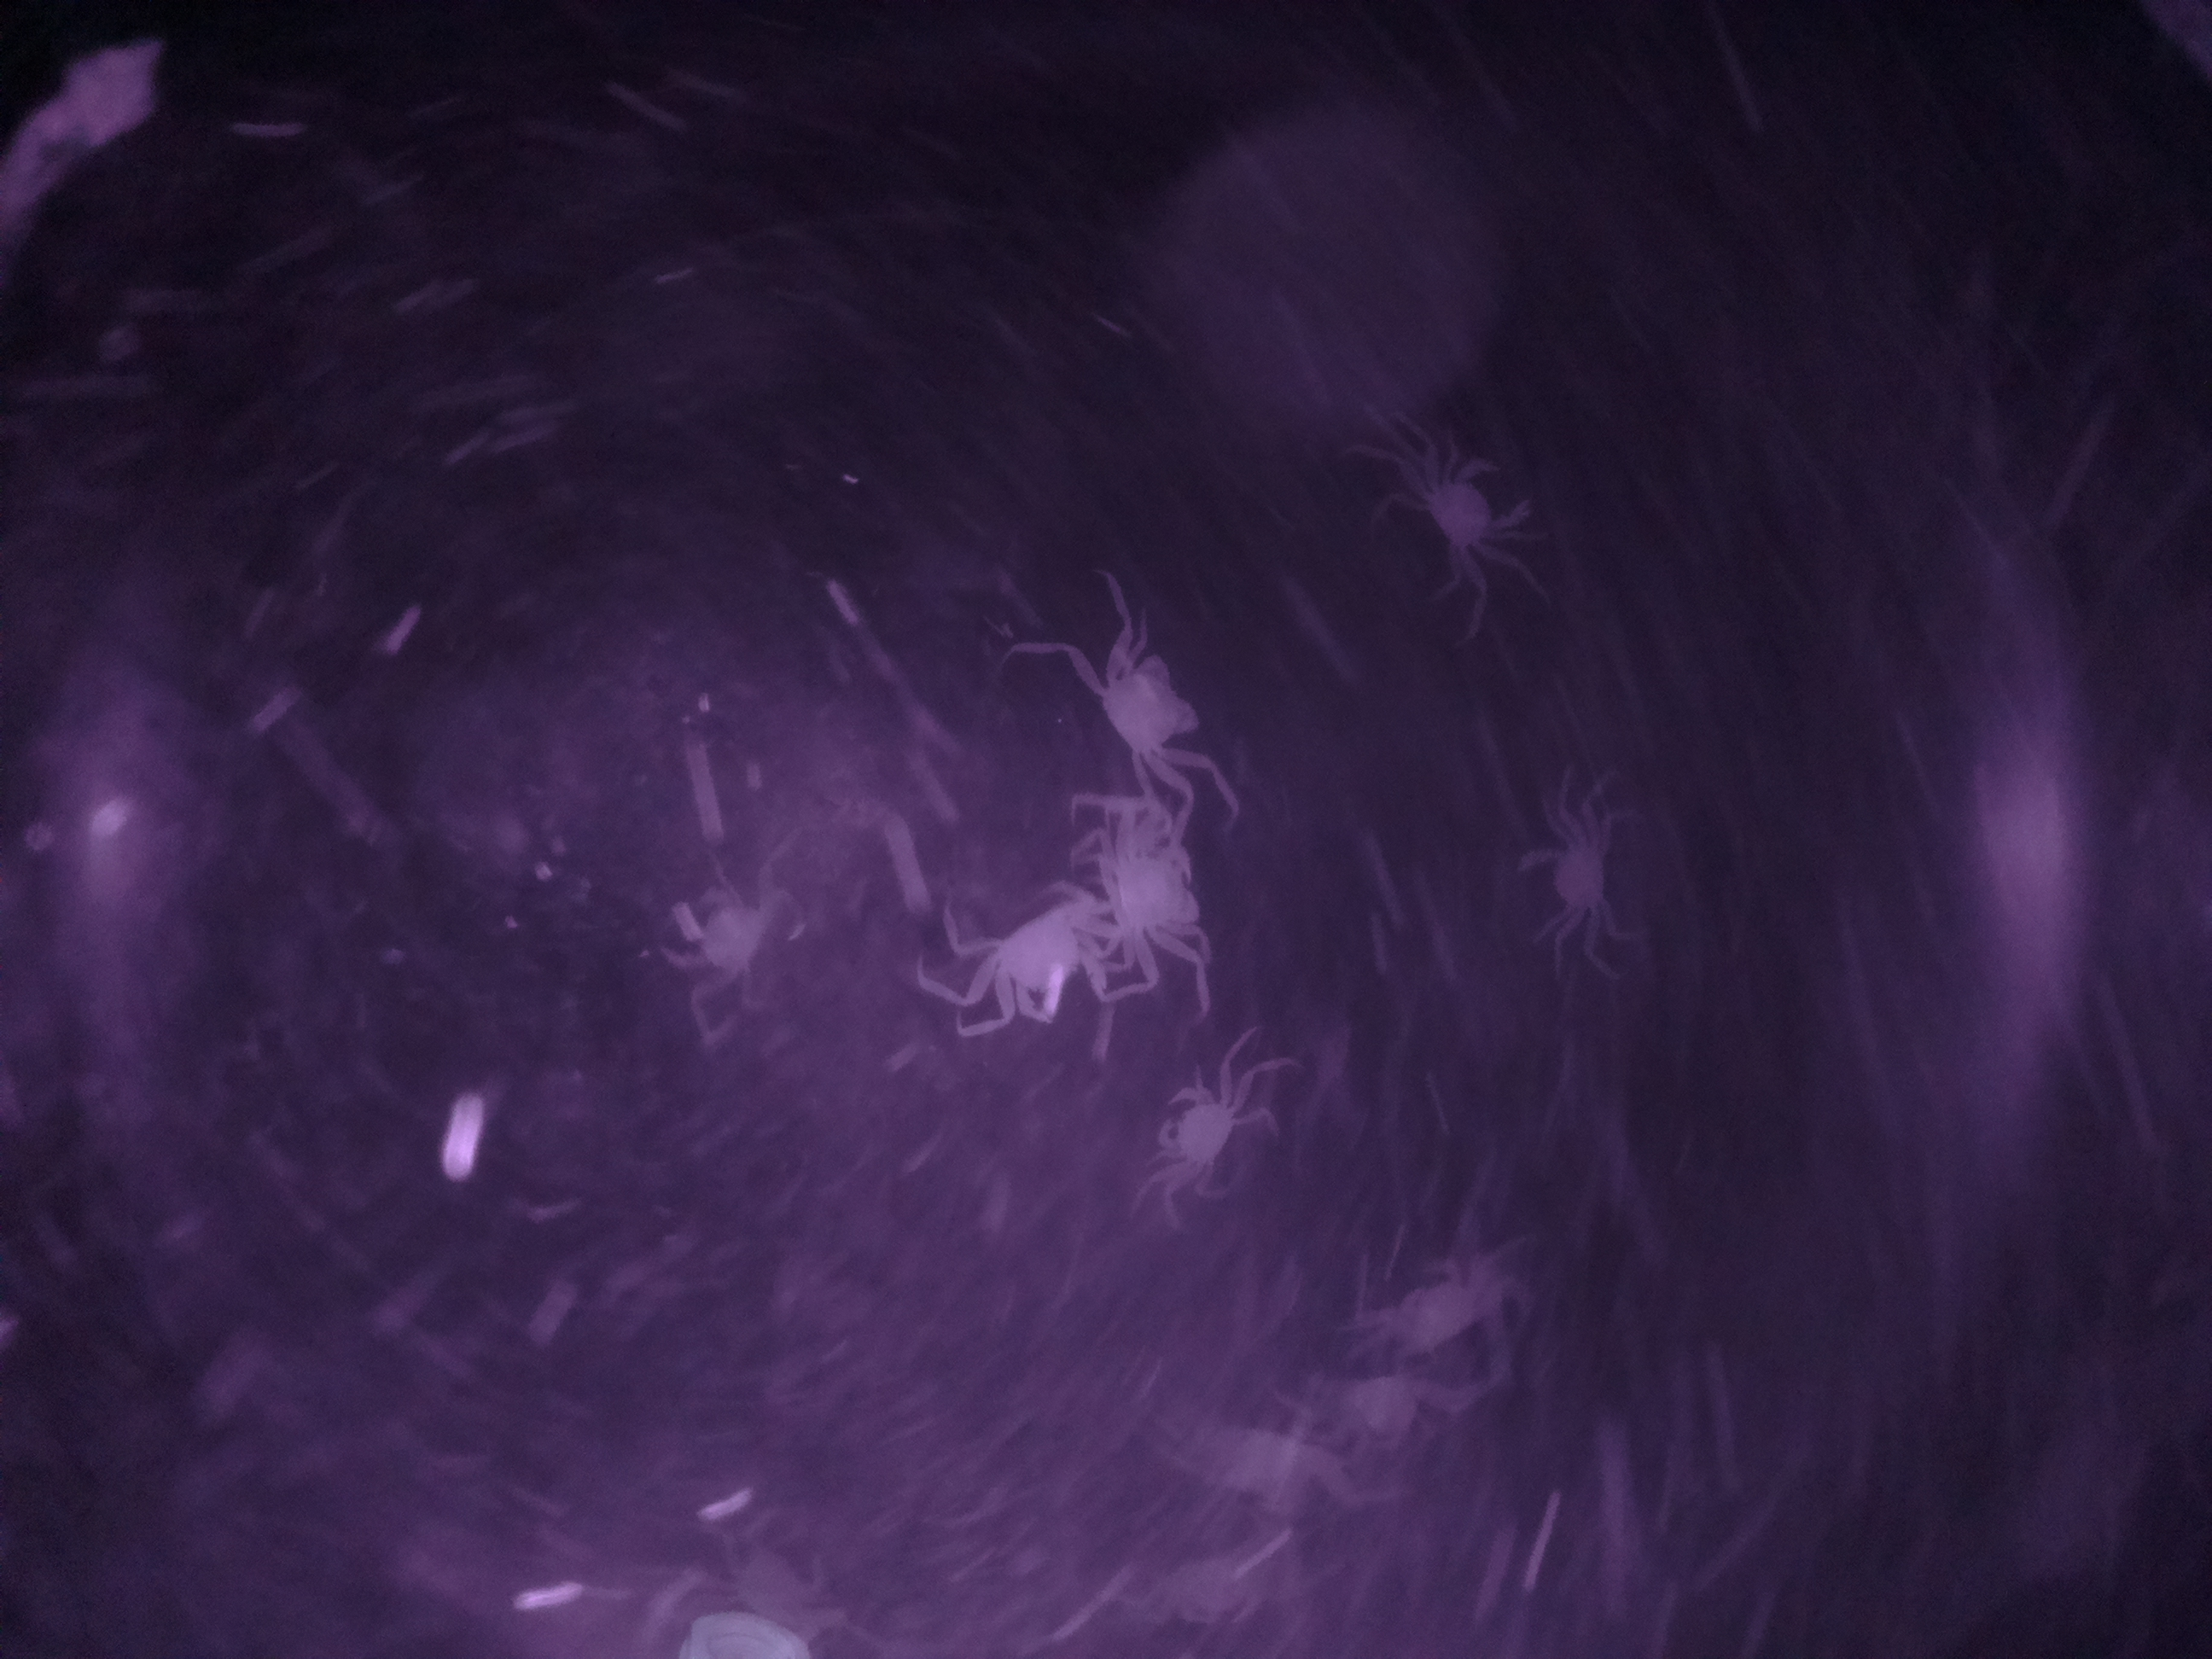Crab: (1501, 770, 1681, 958), (963, 857, 1120, 1054), (1069, 624, 1231, 795), (1388, 443, 1548, 594), (1132, 1068, 1278, 1208)
